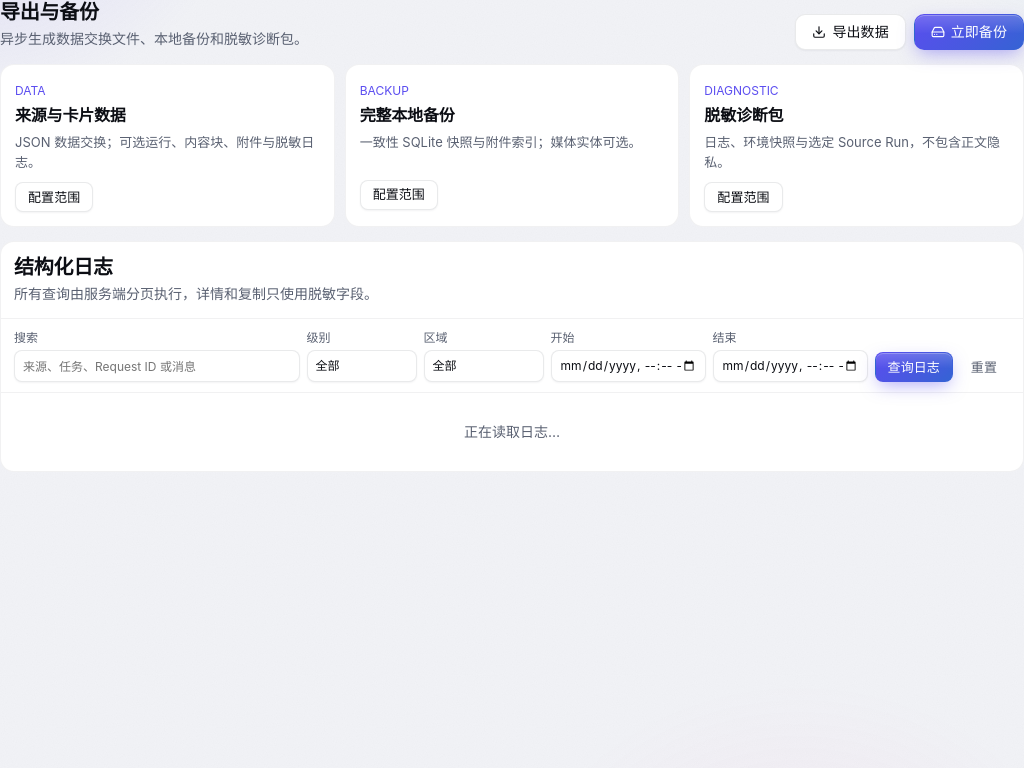
ExportLogsModule › shows candidate loading failure in the diagnostic dialog
Click the button with aria-label "配置脱敏诊断包" at [743, 197], box x1=704 y1=182 x2=783 y2=212
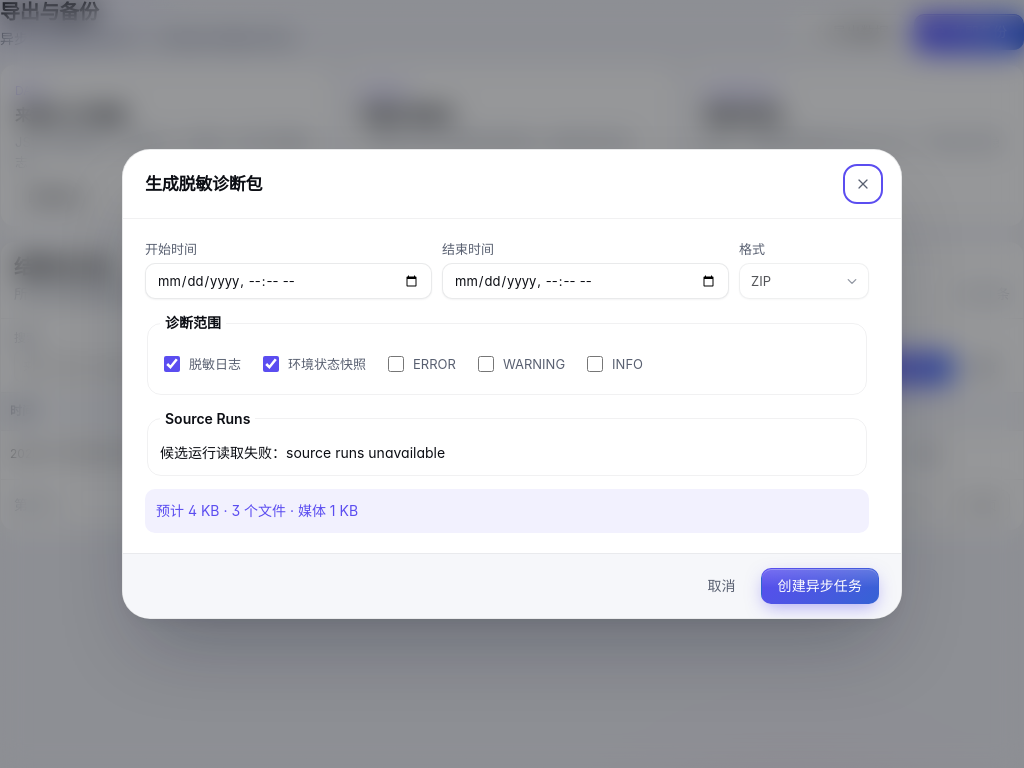
Check: the message reads "候选运行读取失败：source runs unavailable", box x1=160 y1=442 x2=445 y2=463
